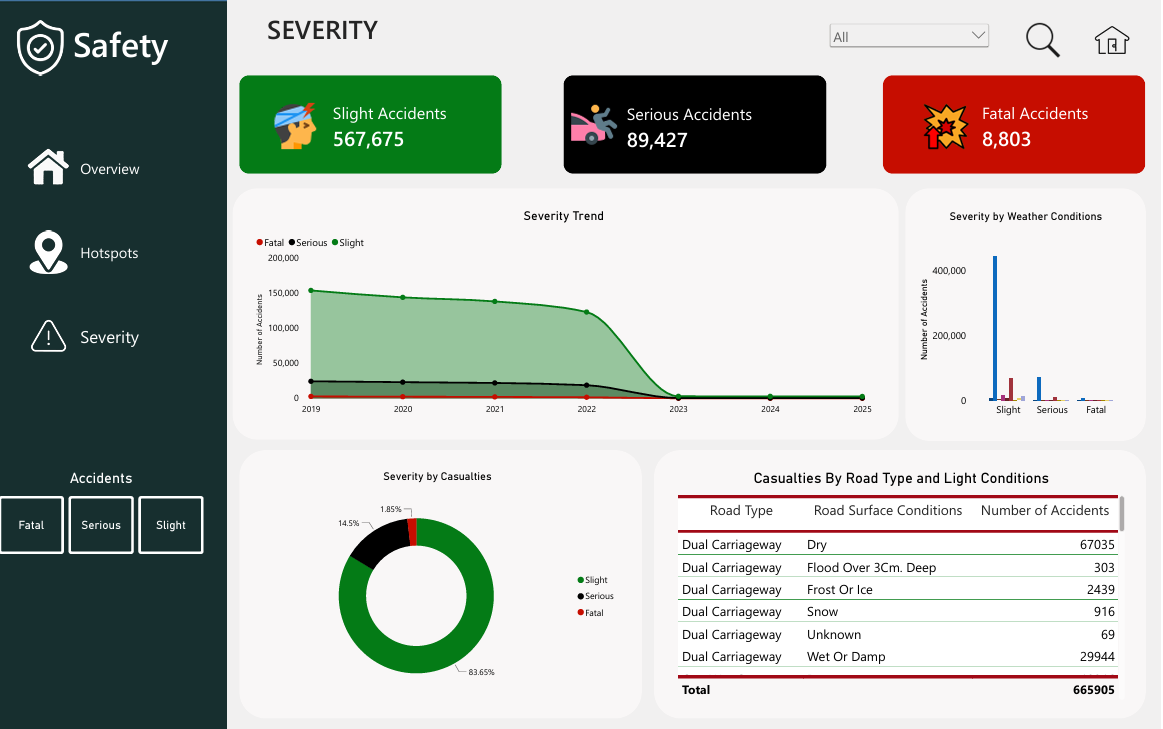

What the dashboard file says about the page in this screenshot:
{"tool":"powerbi","page":{"name":"Severity","canvas":[1920,1200],"ordinal":2},"visuals":[{"type":"shape","box":[383.2,0,1537.2,1200],"z":0},{"type":"cardVisual","fields":{"Data":["Road Safety Clean.Serious Accidents"]},"box":[1025.6,144.5,334.3,127],"z":0,"group":"g2"},{"type":"image","box":[446.7,162,94.3,90],"z":0,"group":"g1"},{"type":"shape","box":[402.9,122.6,432.5,162.5],"z":1000},{"type":"cardVisual","fields":{"Data":["Road Safety Clean.Slight Accidents"]},"box":[541,144.5,250.3,124.8],"z":1000,"group":"g1"},{"type":"image","box":[948.2,159.8,78.7,87.6],"z":1000,"group":"g2"},{"type":"shape","box":[392,308.8,1097.1,413.9],"z":2000},{"type":"shape","box":[1086.1,740.1,810.2,442.3],"z":3000},{"type":"shape","box":[1500,308.8,396.4,416.1],"z":4000},{"type":"group","id":"g1","title":"Group 3","box":[446.7,144.5,343.8,124.8],"z":5000},{"type":"shape","box":[1462.5,122.5,432.5,162.5],"z":6000},{"type":"shape","box":[937.2,122.6,432.5,162.5],"z":7000},{"type":"group","id":"g2","title":"Group 1","box":[948.2,144.5,411.7,127],"z":8000},{"type":"cardVisual","fields":{"Data":["Road Safety Clean.Fatal Accidents"]},"box":[1609.9,145,226.3,124.8],"z":8000,"group":"g3"},{"type":"group","id":"g3","title":"Group 2","box":[1525,145,310,125],"z":9000},{"type":"lineChart","title":"Severity Trend","fields":{"Category":["Road Safety Clean.Accident Date.Variation.Date Hierarchy.Year","Road Safety Clean.Accident Date.Variation.Date Hierarchy.Month"],"Series":["Road Safety Clean.Accident_Severity"],"Y":["CountNonNull(Road Safety Clean.Accident_Severity)"]},"box":[413.9,328.5,1046.7,374.5],"z":10000},{"type":"image","box":[1525,169.1,84.9,76.6],"z":11000,"group":"g3"},{"type":"image","box":[48.2,229.9,81,78.8],"z":11000},{"type":"image","box":[48.2,378.8,81,72.3],"z":12000},{"type":"image","box":[48.2,519,81,65.7],"z":13000},{"type":"pageNavigator","box":[129.2,212.4,214.6,407.3],"z":14000},{"type":"image","box":[1805,32.5,70,65],"z":15000},{"type":"slicer","fields":{"Values":["Road Safety Clean.Accident Date.Variation.Date Hierarchy.Year"]},"box":[1370,32.5,272.5,55],"z":16000},{"type":"image","box":[1692.5,32.5,67.5,65],"z":17000},{"type":"textbox","box":[448.5,17.6,214.2,70.6],"z":18000},{"type":"advancedSlicerVisual","title":"Accidents","fields":{"Values":["Road Safety Clean.Accident_Severity"]},"box":[6.6,773,337.2,138],"z":19000},{"type":"textbox","box":[129.2,32.8,194.9,89.8],"z":20000},{"type":"image","box":[30.2,20.2,90.7,113.4],"z":21000},{"type":"tableEx","title":"Casualties By Road Type and Light Conditions","fields":{"Values":["Road Safety Clean.Road_Type","Road Safety Clean.Road_Surface_Conditions","Road Safety Clean.Accident_Severity"]},"box":[1110.2,757.7,766.4,409.5],"z":22000},{"type":"shape","box":[402.9,740.1,663.5,442.3],"z":23000},{"type":"clusteredColumnChart","title":"Severity by Weather Conditions","fields":{"Category":["Road Safety Clean.Accident_Severity"],"Series":["Road Safety Clean.Weather_Conditions"],"Y":["CountNonNull(Road Safety Clean.Accident_Severity)"]},"box":[1506.6,330.7,383.2,374.5],"z":24000},{"type":"donutChart","title":"Severity by Casualties","fields":{"Category":["Road Safety Clean.Accident_Severity"],"Y":["Sum(Road Safety Clean.Number_of_Casualties)"]},"box":[413.9,757.7,630.7,409.5],"z":25000}]}

Visuals, with their boxes on the page's 1920x1200 design canvas (x1, y1, x2, y2). These are canvas units, not pixel positions in the 1163x729 screenshot, which may show the page scaled, cropped or inside an application window:
shape: rect(383, 0, 1920, 1200)
cardVisual - Road Safety Clean.Serious Accidents: rect(1026, 144, 1360, 272)
image: rect(447, 162, 541, 252)
shape: rect(403, 123, 835, 285)
cardVisual - Road Safety Clean.Slight Accidents: rect(541, 144, 791, 269)
image: rect(948, 160, 1027, 247)
shape: rect(392, 309, 1489, 723)
shape: rect(1086, 740, 1896, 1182)
shape: rect(1500, 309, 1896, 725)
"Group 3" group: rect(447, 144, 790, 269)
shape: rect(1462, 122, 1895, 285)
shape: rect(937, 123, 1370, 285)
"Group 1" group: rect(948, 144, 1360, 272)
cardVisual - Road Safety Clean.Fatal Accidents: rect(1610, 145, 1836, 270)
"Group 2" group: rect(1525, 145, 1835, 270)
"Severity Trend" lineChart: rect(414, 328, 1461, 703)
image: rect(1525, 169, 1610, 246)
image: rect(48, 230, 129, 309)
image: rect(48, 379, 129, 451)
image: rect(48, 519, 129, 585)
pageNavigator: rect(129, 212, 344, 620)
image: rect(1805, 32, 1875, 98)
slicer - Road Safety Clean.Accident Date.Variation.Date Hierarchy.Year: rect(1370, 32, 1642, 88)
image: rect(1692, 32, 1760, 98)
textbox: rect(448, 18, 663, 88)
"Accidents" advancedSlicerVisual: rect(7, 773, 344, 911)
textbox: rect(129, 33, 324, 123)
image: rect(30, 20, 121, 134)
"Casualties By Road Type and Light Conditions" tableEx: rect(1110, 758, 1877, 1167)
shape: rect(403, 740, 1066, 1182)
"Severity by Weather Conditions" clusteredColumnChart: rect(1507, 331, 1890, 705)
"Severity by Casualties" donutChart: rect(414, 758, 1045, 1167)
